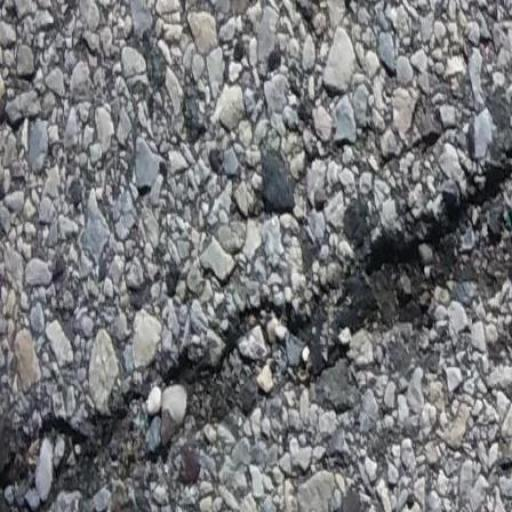spalling: (50, 144, 505, 495)
